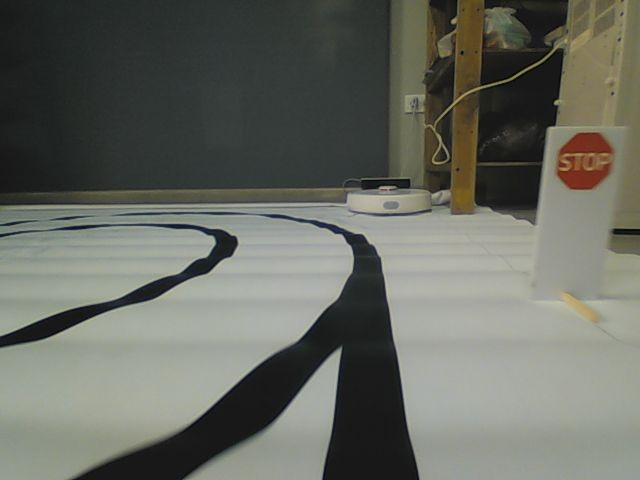Stop: (555, 128, 614, 190)
